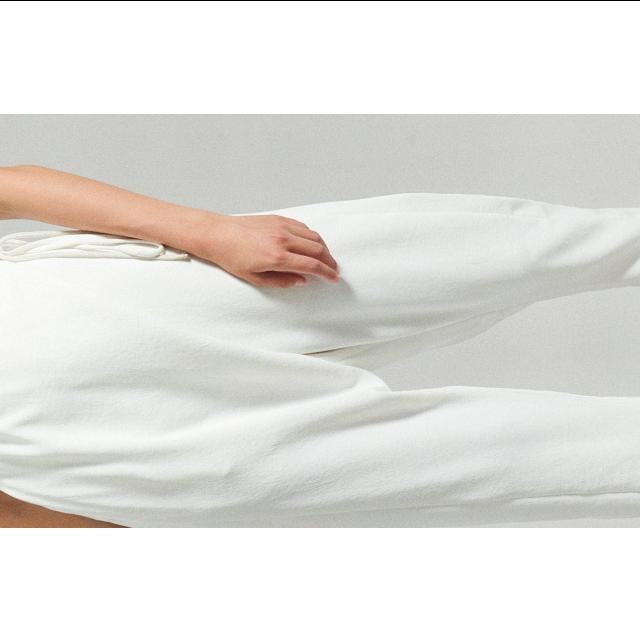polyester: (0, 159, 640, 527)
